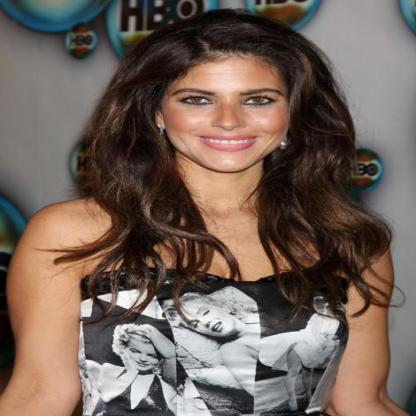long-hair: (68, 172, 386, 228)
